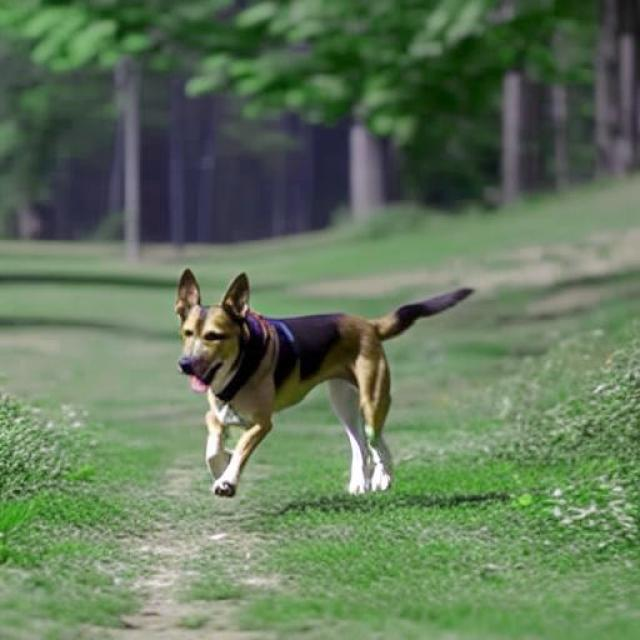Dog: (175, 267, 478, 496)
